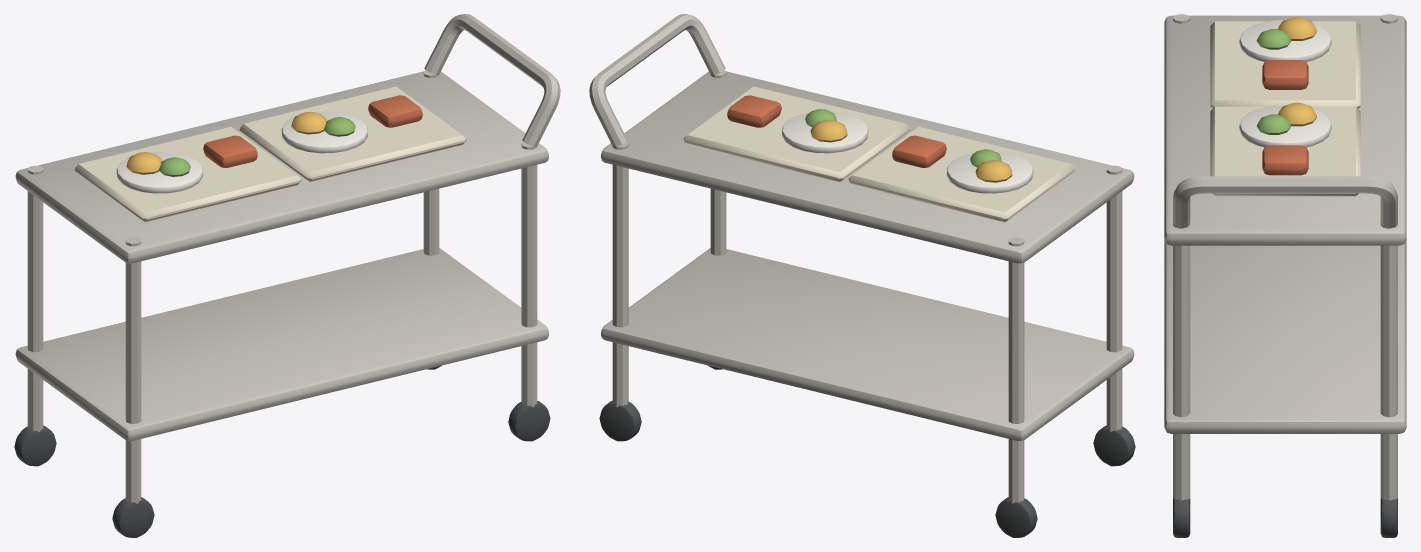
Rendered from table_trolley.glb.
3 views of the same model, side by side, from view 1: azimuth 30°, elevation 25°; view 2: azimuth 150°, elevation 25°; view 3: azimuth 270°, elevation 25° (orthographic). The views are drawn at different scales.
Visible parts, largest first — view 1: steel, cream, rubber, sheet, food_c, food_a, food_b; view 2: steel, cream, sheet, rubber, food_c, food_a, food_b; view 3: steel, cream, sheet, food_c, rubber, food_a, food_b.
Part boxes in pixels (x1=…): steel: x1=15, y1=14, x2=560, y2=503; cream: x1=75, y1=86, x2=466, y2=222; rubber: x1=14, y1=365, x2=550, y2=537; sheet: x1=116, y1=111, x2=367, y2=193; food_c: x1=203, y1=95, x2=422, y2=167; food_a: x1=126, y1=111, x2=327, y2=174; food_b: x1=159, y1=117, x2=355, y2=176; steel: x1=589, y1=14, x2=1134, y2=503; cream: x1=683, y1=86, x2=1074, y2=222; sheet: x1=782, y1=111, x2=1033, y2=193; rubber: x1=599, y1=365, x2=1135, y2=537; food_c: x1=727, y1=95, x2=946, y2=167; food_a: x1=810, y1=119, x2=1012, y2=182; food_b: x1=805, y1=109, x2=1001, y2=167; steel: x1=1164, y1=14, x2=1406, y2=500; cream: x1=1210, y1=21, x2=1360, y2=196; sheet: x1=1239, y1=19, x2=1331, y2=147; food_c: x1=1262, y1=60, x2=1308, y2=175; rubber: x1=1173, y1=498, x2=1397, y2=537; food_a: x1=1278, y1=17, x2=1316, y2=126; food_b: x1=1256, y1=29, x2=1291, y2=134.
Size of the model in its own units: 0.9545 by 0.7145 by 0.42.
